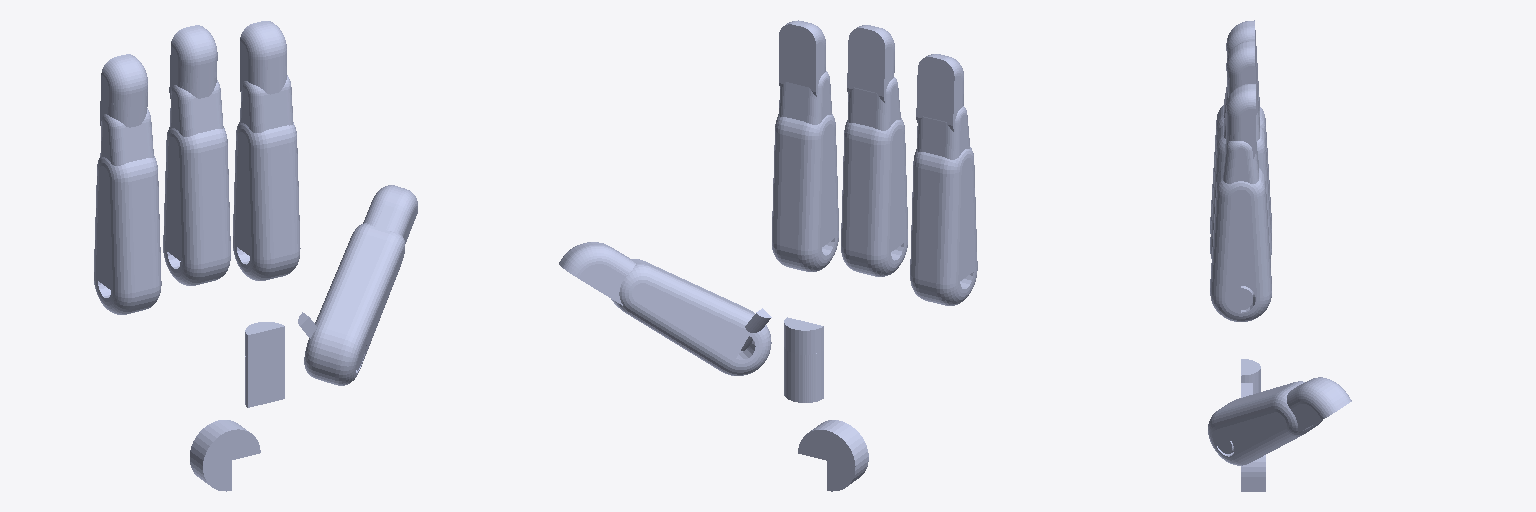
The robot description file, URDF, robot "four_dof_thumb":
<robot
  name="four_dof_thumb">
  <link
    name="base_link">
    <inertial>
      <origin
        xyz="0.000373947520910551 0.00446544983197467 0.034932927343544"
        rpy="0 0 0" />
      <mass
        value="0.00905367732856406" />
      <inertia
        ixx="1.0810666090097E-05"
        ixy="-7.07848979068899E-08"
        ixz="-1.56744148724215E-06"
        iyy="1.3569655674689E-05"
        iyz="-3.24607828829337E-10"
        izz="2.89695083215301E-06" />
    </inertial>
    <visual>
      <origin
        xyz="0 0 0"
        rpy="0 0 0" />
      <geometry>
        <mesh
          filename="package://dms_description/meshes/base_link.STL" />
      </geometry>
      <material
        name="">
        <color
          rgba="0.792156862745098 0.819607843137255 0.933333333333333 1" />
      </material>
    </visual>
    <collision>
      <origin
        xyz="0 0 0"
        rpy="0 0 0" />
      <geometry>
        <mesh
          filename="package://dms_description/meshes/base_link.STL" />
      </geometry>
    </collision>
  </link>
  <link
    name="fk">
    <inertial>
      <origin
        xyz="0.0026762469409189 -0.00236197365119268 -8.15518929182385E-05"
        rpy="0 0 0" />
      <mass
        value="0.0013335046761727" />
      <inertia
        ixx="2.8319514891752E-08"
        ixy="9.2394791184007E-09"
        ixz="3.04452502019299E-10"
        iyy="2.90851668298742E-08"
        iyz="3.68924544273271E-10"
        izz="4.00447501312302E-08" />
    </inertial>
    <visual>
      <origin
        xyz="0 0 0"
        rpy="0 0 0" />
      <geometry>
        <mesh
          filename="package://dms_description/meshes/fk.STL" />
      </geometry>
      <material
        name="">
        <color
          rgba="0.792156862745098 0.819607843137255 0.933333333333333 1" />
      </material>
    </visual>
    <collision>
      <origin
        xyz="0 0 0"
        rpy="0 0 0" />
      <geometry>
        <mesh
          filename="package://dms_description/meshes/fk.STL" />
      </geometry>
    </collision>
  </link>
  <joint
    name="ffj1"
    type="revolute">
    <origin
      xyz="0.015 0 0.085"
      rpy="0 0 0" />
    <parent
      link="base_link" />
    <child
      link="fk" />
    <axis
      xyz="0 1 0" />
    <limit
      lower="-0.35"
      upper="0.523"
      effort="3.0"
      velocity="0" />
  </joint>
  <link
    name="fp">
    <inertial>
      <origin
        xyz="-3.45318843318378E-05 -5.75572721701362E-05 0.0207928581882169"
        rpy="0 0 0" />
      <mass
        value="0.0250185588320361" />
      <inertia
        ixx="8.82328531416782E-06"
        ixy="-7.24972591343784E-09"
        ixz="1.37970732294234E-08"
        iyy="8.61676559778041E-06"
        iyz="2.99417157910315E-08"
        izz="1.67460811247939E-06" />
    </inertial>
    <visual>
      <origin
        xyz="0 0 0"
        rpy="0 0 0" />
      <geometry>
        <mesh
          filename="package://dms_description/meshes/fp.STL" />
      </geometry>
      <material
        name="">
        <color
          rgba="0.792156862745098 0.819607843137255 0.933333333333333 1" />
      </material>
    </visual>
    <collision>
      <origin
        xyz="0 0 0"
        rpy="0 0 0" />
      <geometry>
        <mesh
          filename="package://dms_description/meshes/fp.STL" />
      </geometry>
    </collision>
  </link>
  <joint
    name="ffj2"
    type="revolute">
    <origin
      xyz="0 0 0"
      rpy="0 0 0" />
    <parent
      link="fk" />
    <child
      link="fp" />
    <axis
      xyz="1 0 0" />
    <limit
      lower="0"
      upper="1.7"
      effort="3.0"
      velocity="0" />
  </joint>
  <link
    name="fm">
    <inertial>
      <origin
        xyz="-8.40032360344654E-05 -0.000110524860352659 0.0089765002598978"
        rpy="0 0 0" />
      <mass
        value="0.00677387324841666" />
      <inertia
        ixx="6.30215200910262E-07"
        ixy="-3.42607481773466E-09"
        ixz="3.37209357281679E-09"
        iyy="6.88101087201227E-07"
        iyz="6.71864582995204E-09"
        izz="2.65914247629149E-07" />
    </inertial>
    <visual>
      <origin
        xyz="0 0 0"
        rpy="0 0 0" />
      <geometry>
        <mesh
          filename="package://dms_description/meshes/fm.STL" />
      </geometry>
      <material
        name="">
        <color
          rgba="0.792156862745098 0.819607843137255 0.933333333333333 1" />
      </material>
    </visual>
    <collision>
      <origin
        xyz="0 0 0"
        rpy="0 0 0" />
      <geometry>
        <mesh
          filename="package://dms_description/meshes/fm.STL" />
      </geometry>
    </collision>
  </link>
  <joint
    name="ffj3"
    type="revolute">
    <origin
      xyz="0 0 0.045"
      rpy="0 0 0" />
    <parent
      link="fp" />
    <child
      link="fm" />
    <axis
      xyz="1 0 0" />
    <limit
      lower="0"
      upper="1.7"
      effort="3.0"
      velocity="0" />
  </joint>
  <link
    name="fd">
    <inertial>
      <origin
        xyz="-3.09936558514894E-05 0.000550385779977883 0.00930352824495184"
        rpy="0 0 0" />
      <mass
        value="0.00463362147678529" />
      <inertia
        ixx="3.47307721199683E-07"
        ixy="-4.89000920671665E-10"
        ixz="1.00752176376587E-09"
        iyy="3.85373850967644E-07"
        iyz="1.37710273137872E-08"
        izz="1.34328352708476E-07" />
    </inertial>
    <visual>
      <origin
        xyz="0 0 0"
        rpy="0 0 0" />
      <geometry>
        <mesh
          filename="package://dms_description/meshes/fd.STL" />
      </geometry>
      <material
        name="">
        <color
          rgba="0.792156862745098 0.819607843137255 0.933333333333333 1" />
      </material>
    </visual>
    <collision>
      <origin
        xyz="0 0 0"
        rpy="0 0 0" />
      <geometry>
        <mesh
          filename="package://dms_description/meshes/fd.STL" />
      </geometry>
    </collision>
  </link>
  <joint
    name="ffj4"
    type="revolute">
    <origin
      xyz="0 0 0.02"
      rpy="0 0 0" />
    <parent
      link="fm" />
    <child
      link="fd" />
    <axis
      xyz="1 0 0" />
    <limit
      lower="0"
      upper="1.7"
      effort="3.0"
      velocity="0" />
  </joint>
  <link
    name="mk">
    <inertial>
      <origin
        xyz="0.00267624694091888 -0.00236197365119268 -8.15518929182524E-05"
        rpy="0 0 0" />
      <mass
        value="0.0013335046761727" />
      <inertia
        ixx="2.8319514891752E-08"
        ixy="9.2394791184007E-09"
        ixz="3.04452502019303E-10"
        iyy="2.90851668298742E-08"
        iyz="3.68924544273275E-10"
        izz="4.00447501312302E-08" />
    </inertial>
    <visual>
      <origin
        xyz="0 0 0"
        rpy="0 0 0" />
      <geometry>
        <mesh
          filename="package://dms_description/meshes/mk.STL" />
      </geometry>
      <material
        name="">
        <color
          rgba="0.792156862745098 0.819607843137255 0.933333333333333 1" />
      </material>
    </visual>
    <collision>
      <origin
        xyz="0 0 0"
        rpy="0 0 0" />
      <geometry>
        <mesh
          filename="package://dms_description/meshes/mk.STL" />
      </geometry>
    </collision>
  </link>
  <joint
    name="mfj1"
    type="revolute">
    <origin
      xyz="-0.015 0 0.09"
      rpy="0 0 0" />
    <parent
      link="base_link" />
    <child
      link="mk" />
    <axis
      xyz="0 1 0" />
    <limit
      lower="-0.4"
      upper="0.4"
      effort="3.0"
      velocity="0" />
  </joint>
  <link
    name="mp">
    <inertial>
      <origin
        xyz="-3.45318843318742E-05 -5.75572721701356E-05 0.0207928581882169"
        rpy="0 0 0" />
      <mass
        value="0.0250185588320361" />
      <inertia
        ixx="8.82328531416783E-06"
        ixy="-7.24972591343789E-09"
        ixz="1.37970732294231E-08"
        iyy="8.61676559778042E-06"
        iyz="2.99417157910315E-08"
        izz="1.67460811247939E-06" />
    </inertial>
    <visual>
      <origin
        xyz="0 0 0"
        rpy="0 0 0" />
      <geometry>
        <mesh
          filename="package://dms_description/meshes/mp.STL" />
      </geometry>
      <material
        name="">
        <color
          rgba="0.792156862745098 0.819607843137255 0.933333333333333 1" />
      </material>
    </visual>
    <collision>
      <origin
        xyz="0 0 0"
        rpy="0 0 0" />
      <geometry>
        <mesh
          filename="package://dms_description/meshes/mp.STL" />
      </geometry>
    </collision>
  </link>
  <joint
    name="mfj2"
    type="revolute">
    <origin
      xyz="0 0 0"
      rpy="0 0 0" />
    <parent
      link="mk" />
    <child
      link="mp" />
    <axis
      xyz="1 0 0" />
    <limit
      lower="0"
      upper="1.7"
      effort="3.0"
      velocity="0" />
  </joint>
  <link
    name="mm">
    <inertial>
      <origin
        xyz="-8.40032360344637E-05 0.000289653936239841 0.00897250652036105"
        rpy="0 0 0" />
      <mass
        value="0.00677387324841666" />
      <inertia
        ixx="6.30215200910262E-07"
        ixy="-3.27238135081998E-09"
        ixz="3.52143777672621E-09"
        iyy="6.86664192049317E-07"
        iyz="2.54894832645184E-08"
        izz="2.6735114278106E-07" />
    </inertial>
    <visual>
      <origin
        xyz="0 0 0"
        rpy="0 0 0" />
      <geometry>
        <mesh
          filename="package://dms_description/meshes/mm.STL" />
      </geometry>
      <material
        name="">
        <color
          rgba="0.792156862745098 0.819607843137255 0.933333333333333 1" />
      </material>
    </visual>
    <collision>
      <origin
        xyz="0 0 0"
        rpy="0 0 0" />
      <geometry>
        <mesh
          filename="package://dms_description/meshes/mm.STL" />
      </geometry>
    </collision>
  </link>
  <joint
    name="mfj3"
    type="revolute">
    <origin
      xyz="0 0 0.045"
      rpy="0 0 0" />
    <parent
      link="mp" />
    <child
      link="mm" />
    <axis
      xyz="1 0 0" />
    <limit
      lower="0"
      upper="1.7"
      effort="3.0"
      velocity="0" />
  </joint>
  <link
    name="md">
    <inertial>
      <origin
        xyz="-3.09936558514894E-05 3.26730825469089E-05 0.00931973684076406"
        rpy="0 0 0" />
      <mass
        value="0.00463362147678529" />
      <inertia
        ixx="3.47307721199683E-07"
        ixy="-5.4421913776426E-10"
        ixz="9.78799026854127E-10"
        iyy="3.8612677021681E-07"
        iyz="-2.3941141502073E-10"
        izz="1.33575433459311E-07" />
    </inertial>
    <visual>
      <origin
        xyz="0 0 0"
        rpy="0 0 0" />
      <geometry>
        <mesh
          filename="package://dms_description/meshes/md.STL" />
      </geometry>
      <material
        name="">
        <color
          rgba="0.792156862745098 0.819607843137255 0.933333333333333 1" />
      </material>
    </visual>
    <collision>
      <origin
        xyz="0 0 0"
        rpy="0 0 0" />
      <geometry>
        <mesh
          filename="package://dms_description/meshes/md.STL" />
      </geometry>
    </collision>
  </link>
  <joint
    name="mfj4"
    type="revolute">
    <origin
      xyz="0 0.00089137 0.01998"
      rpy="0 0 0" />
    <parent
      link="mm" />
    <child
      link="md" />
    <axis
      xyz="1 0 0" />
    <limit
      lower="0"
      upper="1.7"
      effort="3.0"
      velocity="0" />
  </joint>
  <link
    name="lk">
    <inertial>
      <origin
        xyz="0.00267624694091889 -0.00236197365119268 -8.15518929182385E-05"
        rpy="0 0 0" />
      <mass
        value="0.0013335046761727" />
      <inertia
        ixx="2.8319514891752E-08"
        ixy="9.23947911840069E-09"
        ixz="3.04452502019297E-10"
        iyy="2.90851668298742E-08"
        iyz="3.68924544273268E-10"
        izz="4.00447501312302E-08" />
    </inertial>
    <visual>
      <origin
        xyz="0 0 0"
        rpy="0 0 0" />
      <geometry>
        <mesh
          filename="package://dms_description/meshes/lk.STL" />
      </geometry>
      <material
        name="">
        <color
          rgba="0.792156862745098 0.819607843137255 0.933333333333333 1" />
      </material>
    </visual>
    <collision>
      <origin
        xyz="0 0 0"
        rpy="0 0 0" />
      <geometry>
        <mesh
          filename="package://dms_description/meshes/lk.STL" />
      </geometry>
    </collision>
  </link>
  <joint
    name="lfj1"
    type="revolute">
    <origin
      xyz="-0.045 0 0.085"
      rpy="0 0 0" />
    <parent
      link="base_link" />
    <child
      link="lk" />
    <axis
      xyz="0 1 0" />
    <limit
      lower="-0.4"
      upper="0.4"
      effort="3.0"
      velocity="0" />
  </joint>
  <link
    name="lp">
    <inertial>
      <origin
        xyz="-3.4531884324715E-05 -5.75572721822549E-05 0.0207928581882177"
        rpy="0 0 0" />
      <mass
        value="0.0250185588320361" />
      <inertia
        ixx="8.82328531416782E-06"
        ixy="-7.24972591343787E-09"
        ixz="1.37970732294234E-08"
        iyy="8.61676559778041E-06"
        iyz="2.99417157910314E-08"
        izz="1.67460811247939E-06" />
    </inertial>
    <visual>
      <origin
        xyz="0 0 0"
        rpy="0 0 0" />
      <geometry>
        <mesh
          filename="package://dms_description/meshes/lp.STL" />
      </geometry>
      <material
        name="">
        <color
          rgba="0.792156862745098 0.819607843137255 0.933333333333333 1" />
      </material>
    </visual>
    <collision>
      <origin
        xyz="0 0 0"
        rpy="0 0 0" />
      <geometry>
        <mesh
          filename="package://dms_description/meshes/lp.STL" />
      </geometry>
    </collision>
  </link>
  <joint
    name="lfj2"
    type="revolute">
    <origin
      xyz="0 0 0"
      rpy="0 0 0" />
    <parent
      link="lk" />
    <child
      link="lp" />
    <axis
      xyz="1 0 0" />
    <limit
      lower="0"
      upper="1.7"
      effort="3.0"
      velocity="0" />
  </joint>
  <link
    name="lm">
    <inertial>
      <origin
        xyz="-8.4003236034455E-05 0.000289653936239855 0.00897250652036108"
        rpy="0 0 0" />
      <mass
        value="0.00677387324841666" />
      <inertia
        ixx="6.30215200910262E-07"
        ixy="-3.27238135081998E-09"
        ixz="3.52143777672619E-09"
        iyy="6.86664192049317E-07"
        iyz="2.54894832645185E-08"
        izz="2.6735114278106E-07" />
    </inertial>
    <visual>
      <origin
        xyz="0 0 0"
        rpy="0 0 0" />
      <geometry>
        <mesh
          filename="package://dms_description/meshes/lm.STL" />
      </geometry>
      <material
        name="">
        <color
          rgba="0.792156862745098 0.819607843137255 0.933333333333333 1" />
      </material>
    </visual>
    <collision>
      <origin
        xyz="0 0 0"
        rpy="0 0 0" />
      <geometry>
        <mesh
          filename="package://dms_description/meshes/lm.STL" />
      </geometry>
    </collision>
  </link>
  <joint
    name="lfj3"
    type="revolute">
    <origin
      xyz="0 0 0.045"
      rpy="0 0 0" />
    <parent
      link="lp" />
    <child
      link="lm" />
    <axis
      xyz="1 0 0" />
    <limit
      lower="0"
      upper="1.7"
      effort="3.0"
      velocity="0" />
  </joint>
  <link
    name="ld">
    <inertial>
      <origin
        xyz="-3.09936558514912E-05 3.26730825469115E-05 0.00931973684076406"
        rpy="0 0 0" />
      <mass
        value="0.0046336214767853" />
      <inertia
        ixx="3.47307721199683E-07"
        ixy="-5.44219137764287E-10"
        ixz="9.78799026854034E-10"
        iyy="3.8612677021681E-07"
        iyz="-2.39411415020671E-10"
        izz="1.33575433459311E-07" />
    </inertial>
    <visual>
      <origin
        xyz="0 0 0"
        rpy="0 0 0" />
      <geometry>
        <mesh
          filename="package://dms_description/meshes/ld.STL" />
      </geometry>
      <material
        name="">
        <color
          rgba="0.792156862745098 0.819607843137255 0.933333333333333 1" />
      </material>
    </visual>
    <collision>
      <origin
        xyz="0 0 0"
        rpy="0 0 0" />
      <geometry>
        <mesh
          filename="package://dms_description/meshes/ld.STL" />
      </geometry>
    </collision>
  </link>
  <joint
    name="lfj4"
    type="revolute">
    <origin
      xyz="0 0.00089137 0.01998"
      rpy="0 0 0" />
    <parent
      link="lm" />
    <child
      link="ld" />
    <axis
      xyz="1 0 0" />
    <limit
      lower="0"
      upper="1.7"
      effort="3.0"
      velocity="0" />
  </joint>
  <link
    name="tb">
    <inertial>
      <origin
        xyz="0.00368070931534711 0.00318725977538279 0.0119565936996305"
        rpy="0 0 0" />
      <mass
        value="0.0024033183799962" />
      <inertia
        ixx="1.33346381523274E-07"
        ixy="-9.25396206101849E-09"
        ixz="8.27882965057606E-08"
        iyy="3.26776533543998E-07"
        iyz="-4.89078721856056E-09"
        izz="2.13849888328612E-07" />
    </inertial>
    <visual>
      <origin
        xyz="0 0 0"
        rpy="0 0 0" />
      <geometry>
        <mesh
          filename="package://dms_description/meshes/tb.STL" />
      </geometry>
      <material
        name="">
        <color
          rgba="0.792156862745098 0.819607843137255 0.933333333333333 1" />
      </material>
    </visual>
    <collision>
      <origin
        xyz="0 0 0"
        rpy="0 0 0" />
      <geometry>
        <mesh
          filename="package://dms_description/meshes/tb.STL" />
      </geometry>
    </collision>
  </link>
  <joint
    name="thj1"
    type="revolute">
    <origin
      xyz="0.015 0 0.02"
      rpy="0 0 0" />
    <parent
      link="base_link" />
    <child
      link="tb" />
    <axis
      xyz="0 0 -1" />
    <limit
      lower="0"
      upper="1.7"
      effort="3.0"
      velocity="0" />
  </joint>
  <link
    name="tk">
    <inertial>
      <origin
        xyz="0.00267623350799284 -0.0023619327104373 -8.15234132158504E-05"
        rpy="0 0 0" />
      <mass
        value="0.00133350900680233" />
      <inertia
        ixx="2.83197650414318E-08"
        ixy="9.23953275535499E-09"
        ixz="3.04421847030797E-10"
        iyy="2.90852720810111E-08"
        iyz="3.69184780836448E-10"
        izz="4.0044931338277E-08" />
    </inertial>
    <visual>
      <origin
        xyz="0 0 0"
        rpy="0 0 0" />
      <geometry>
        <mesh
          filename="package://dms_description/meshes/tk.STL" />
      </geometry>
      <material
        name="">
        <color
          rgba="0.792156862745098 0.819607843137255 0.933333333333333 1" />
      </material>
    </visual>
    <collision>
      <origin
        xyz="0 0 0"
        rpy="0 0 0" />
      <geometry>
        <mesh
          filename="package://dms_description/meshes/tk.STL" />
      </geometry>
    </collision>
  </link>
  <joint
    name="thj2"
    type="revolute">
    <origin
      xyz="0.03 0 0.015"
      rpy="-0.98805 0.19487 -.8" />
<!--      rpy="-0.5 0.0 -1.5708" />-->

    <parent
      link="tb" />
    <child
      link="tk" />
    <axis
      xyz="0 1 0" />
    <limit
      lower="-.26"
      upper="1"
      effort="3.0"
      velocity="0" />
  </joint>
  <link
    name="tp">
    <inertial>
      <origin
        xyz="-3.45318843318131E-05 -5.75572721701854E-05 0.0207928581882169"
        rpy="0 0 0" />
      <mass
        value="0.0250185588320361" />
      <inertia
        ixx="8.82328531416784E-06"
        ixy="-7.24972591343779E-09"
        ixz="1.37970732294233E-08"
        iyy="8.61676559778043E-06"
        iyz="2.99417157910301E-08"
        izz="1.67460811247939E-06" />
    </inertial>
    <visual>
      <origin
        xyz="0 0 0"
        rpy="0 0 0" />
      <geometry>
        <mesh
          filename="package://dms_description/meshes/tp.STL" />
      </geometry>
      <material
        name="">
        <color
          rgba="0.792156862745098 0.819607843137255 0.933333333333333 1" />
      </material>
    </visual>
    <collision>
      <origin
        xyz="0 0 0"
        rpy="0 0 0" />
      <geometry>
        <mesh
          filename="package://dms_description/meshes/tp.STL" />
      </geometry>
    </collision>
  </link>
  <joint
    name="thj3"
    type="revolute">
    <origin
      xyz="0 0 0"
      rpy="0 0 0" />
    <parent
      link="tk" />
    <child
      link="tp" />
    <axis
      xyz="1 0 0" />
    <limit
      lower="-1.50"
      upper=".7"
      effort="3.0"
      velocity="0" />
  </joint>
  <link
    name="td">
    <inertial>
      <origin
        xyz="-1.77307292403074E-05 0.000699839037252931 0.0104815965870558"
        rpy="0 0 0" />
      <mass
        value="0.00775718478345447" />
      <inertia
        ixx="8.91976439992378E-07"
        ixy="-4.85259079202576E-10"
        ixz="1.10453783887093E-09"
        iyy="8.99844201898759E-07"
        iyz="4.37893019386778E-08"
        izz="2.91765950250343E-07" />
    </inertial>
    <visual>
      <origin
        xyz="0 0 0"
        rpy="0 0 0" />
      <geometry>
        <mesh
          filename="package://dms_description/meshes/td.STL" />
      </geometry>
      <material
        name="">
        <color
          rgba="0.792156862745098 0.819607843137255 0.933333333333333 1" />
      </material>
    </visual>
    <collision>
      <origin
        xyz="0 0 0"
        rpy="0 0 0" />
      <geometry>
        <mesh
          filename="package://dms_description/meshes/td.STL" />
      </geometry>
    </collision>
  </link>
  <joint
    name="thj4"
    type="revolute">
    <origin
      xyz="0 0 0.045"
      rpy="0.055584 0 0" />
    <parent
      link="tp" />
    <child
      link="td" />
    <axis
      xyz="1 0 0" />
    <limit
      lower="-0.3"
      upper="1.7"
      effort="3.0"
      velocity="0" />
  </joint>
</robot>

--- Facts derived from the render (not from the file) ---
3 views of the same robot in one strip: view 1: azimuth 30°, elevation 25°; view 2: azimuth 150°, elevation 25°; view 3: azimuth 270°, elevation 25° (orthographic).
Robot: four_dof_thumb — 17 links, 16 joints (16 revolute); root link base_link; default pose: every joint at zero.
Links seen in each view (by area): view 1: mp, lp, fp, tp, base_link, fd, ld, md, fm, mm, lm, td (+1 smaller); view 2: fp, lp, mp, tp, base_link, md, ld, fd, td, lm, fm, mm (+1 smaller); view 3: fp, tp, td, fd, fm, base_link, md, mp, ld.
Link boxes in pixels (x1,y1,x2,y2): mp: (163, 127, 230, 285); lp: (94, 156, 161, 314); fp: (233, 122, 300, 280); tp: (304, 223, 404, 385); base_link: (190, 322, 284, 491); fd: (240, 21, 286, 94); ld: (100, 54, 147, 127); md: (169, 25, 217, 98); fm: (240, 75, 292, 132); mm: (170, 80, 223, 136); lm: (100, 108, 153, 165); td: (363, 185, 417, 243); fp: (772, 114, 838, 271); lp: (910, 147, 977, 305); mp: (841, 118, 907, 276); tp: (611, 259, 771, 375); base_link: (784, 317, 868, 491); md: (847, 25, 894, 103); ld: (916, 54, 963, 131); fd: (779, 20, 825, 96); td: (559, 242, 635, 305); lm: (917, 106, 969, 159); fm: (779, 71, 831, 124); mm: (848, 77, 900, 130); fp: (1210, 168, 1271, 321); tp: (1208, 381, 1322, 465); td: (1287, 377, 1351, 432); fd: (1226, 84, 1255, 158); fm: (1223, 141, 1258, 183); base_link: (1241, 292, 1265, 491); md: (1226, 41, 1257, 114); mp: (1210, 125, 1271, 258); ld: (1226, 20, 1257, 82).
Size in the robot's own frame: 0.1556 by 0.0583 by 0.1928 metres.
17 mesh visuals loaded from 17 distinct referenced files (17 binary STL).
